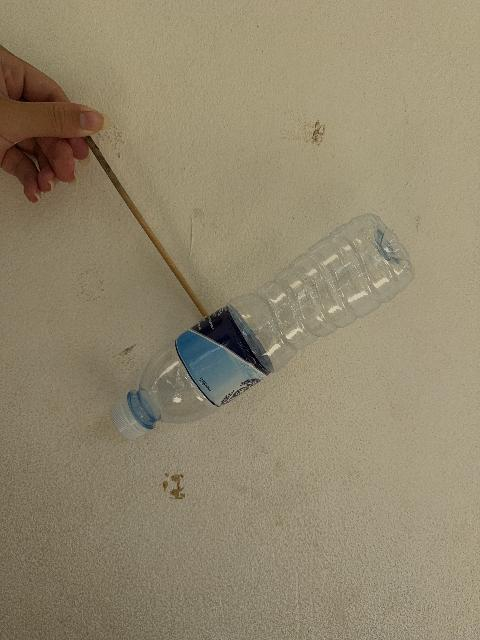bottle: (110, 214, 413, 438)
